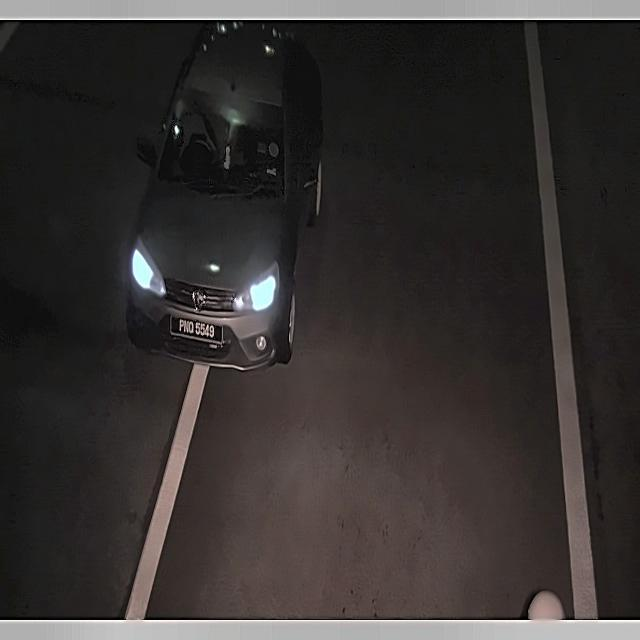car: (168, 312, 226, 348)
